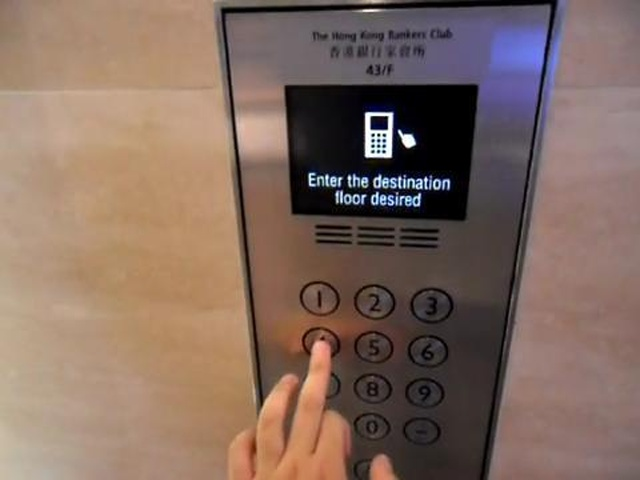-: (403, 417, 442, 446)
0: (353, 412, 392, 441)
1: (299, 281, 340, 316)
2: (352, 282, 397, 320)
3: (408, 286, 454, 324)
5: (354, 330, 394, 364)
6: (406, 334, 449, 368)
8: (352, 372, 393, 404)
9: (405, 377, 445, 409)
led: (282, 82, 478, 223)
